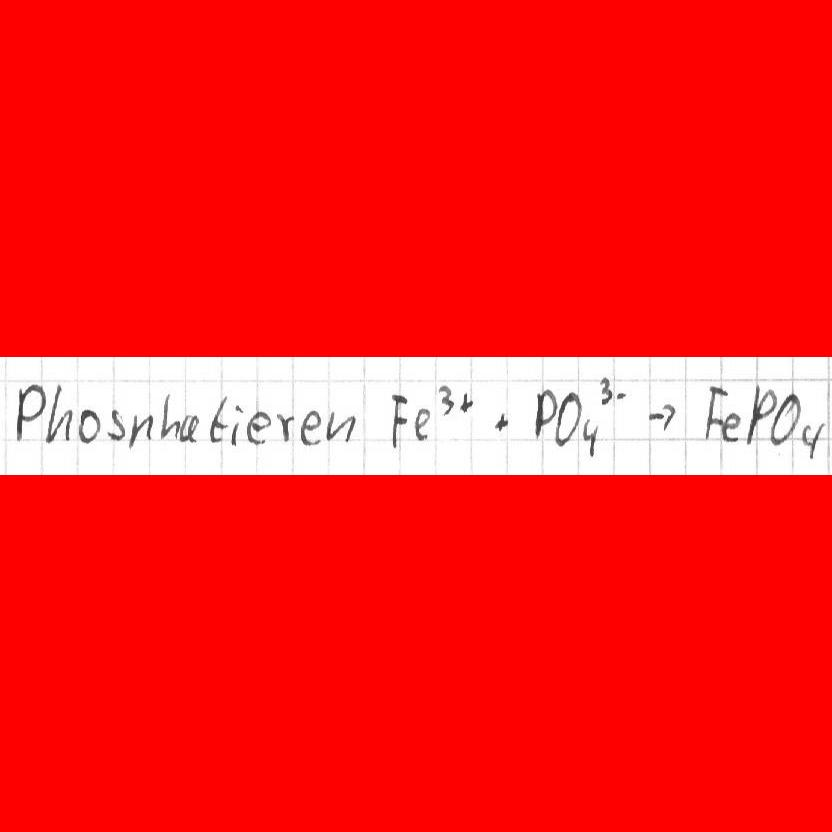Char: (746, 382, 776, 449), (13, 381, 44, 442), (45, 381, 73, 446), (769, 393, 799, 446), (701, 384, 727, 442), (555, 389, 579, 448), (530, 385, 555, 441), (323, 407, 356, 444), (388, 389, 407, 451), (208, 393, 228, 445), (128, 410, 154, 450), (159, 390, 178, 444), (646, 402, 678, 434), (800, 419, 823, 459), (245, 409, 271, 444), (78, 405, 100, 444), (299, 409, 321, 447), (719, 411, 741, 442), (581, 417, 598, 456), (275, 411, 295, 444), (412, 406, 431, 440), (106, 407, 125, 441), (230, 399, 243, 447), (178, 413, 199, 442), (436, 383, 453, 418), (492, 409, 510, 434), (598, 376, 613, 405), (458, 391, 473, 415), (614, 381, 628, 404)
